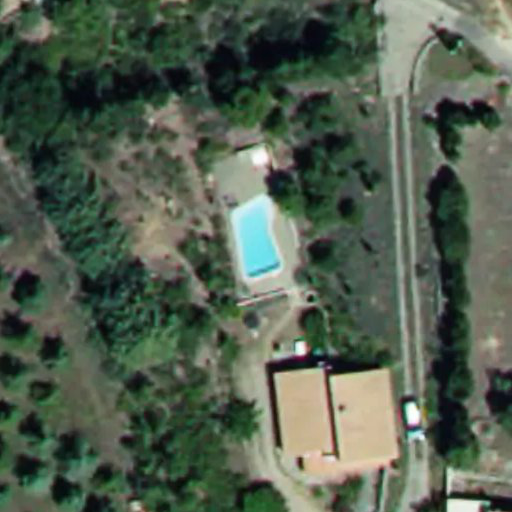pool: (218, 213, 294, 270)
